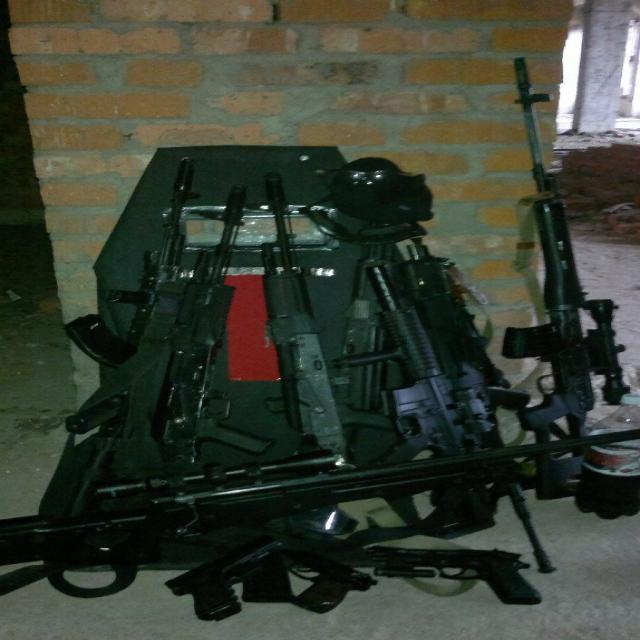firearm: (0, 428, 640, 575), (498, 55, 640, 501), (61, 156, 203, 518), (329, 265, 497, 540), (260, 171, 400, 468), (153, 183, 278, 472)
pistol: (163, 533, 289, 623), (365, 545, 543, 605), (282, 550, 380, 614)
